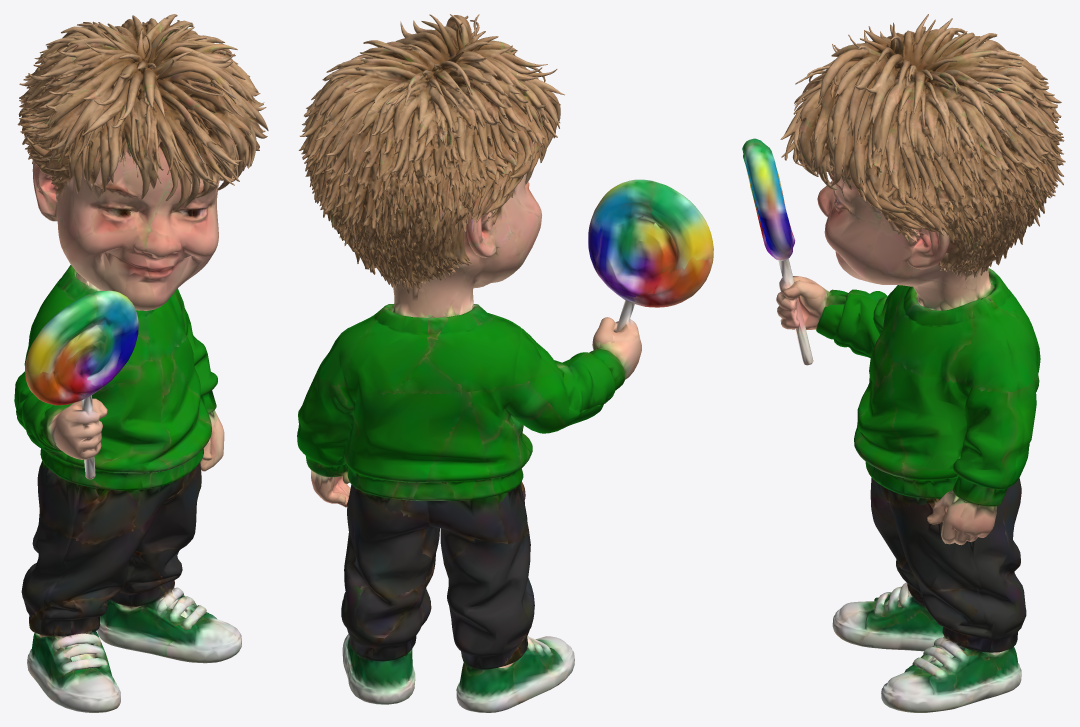
Rendered from auti-character.glb.
3 views of the same model, side by side, from view 1: azimuth 30°, elevation 25°; view 2: azimuth 150°, elevation 25°; view 3: azimuth 270°, elevation 25° (orthographic).
Size of the model in its own units: 0.9501 by 1.9 by 0.8627.
1 material, 1 textured.
